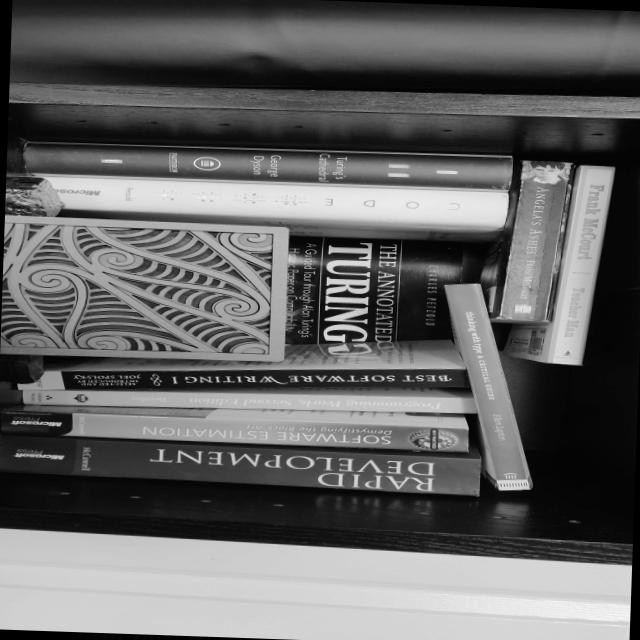book: (37, 174, 508, 243), (0, 434, 479, 496), (0, 398, 467, 453), (20, 138, 512, 190), (501, 153, 616, 369), (15, 339, 468, 391), (436, 276, 532, 498), (473, 152, 573, 330), (15, 381, 476, 413)
